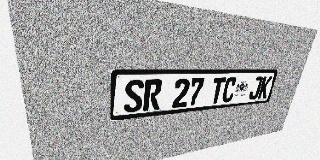2: (172, 78, 191, 108)
7: (187, 78, 205, 106)
C: (221, 77, 238, 103)
J: (248, 76, 263, 100)
K: (257, 76, 272, 99)
R: (143, 79, 163, 111)
S: (124, 79, 144, 113)
T: (209, 77, 226, 104)
